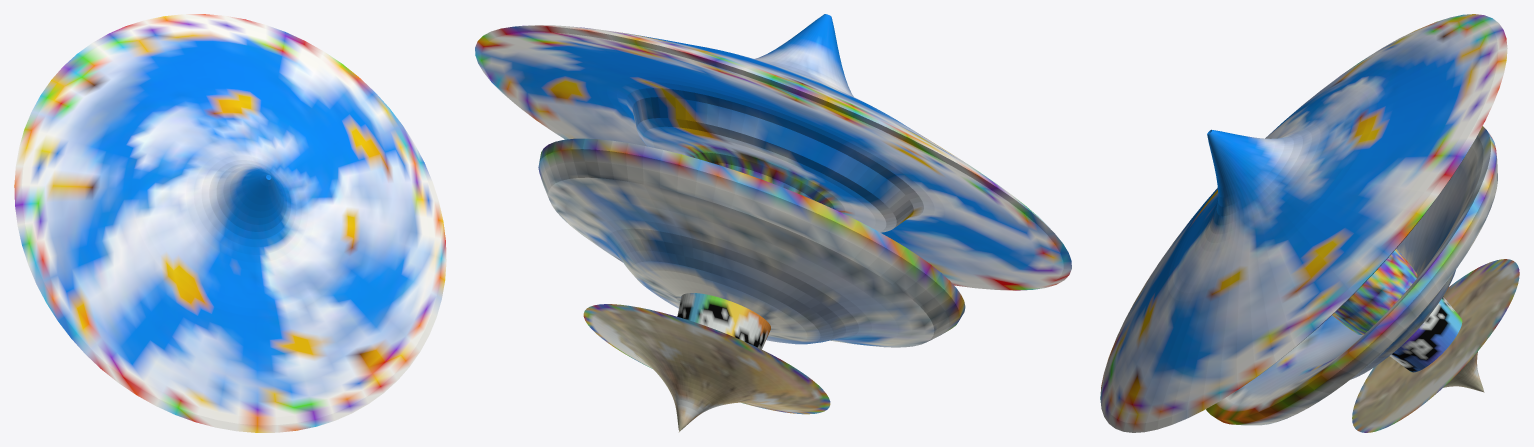
The model's file is april28outdoorpagoda5.glb.
3 renders of one model, left to right at view 1: azimuth 30°, elevation 25°; view 2: azimuth 150°, elevation 25°; view 3: azimuth 270°, elevation 25°, orthographic. The views are drawn at different scales.
Parts seen in each view (by area): view 1: Lathe 4; view 2: Lathe 4, Lathe 3, Lathe, Lathe.001; view 3: Lathe 4, Lathe 3, Lathe, Lathe.001.
Boxes of the visible parts, left/top/right/bottom form: Lathe 4: left=14, top=14, right=446, bottom=432; Lathe 4: left=475, top=14, right=1071, bottom=290; Lathe 3: left=538, top=138, right=965, bottom=347; Lathe: left=583, top=304, right=830, bottom=432; Lathe.001: left=677, top=293, right=770, bottom=349; Lathe 4: left=1100, top=14, right=1507, bottom=432; Lathe 3: left=1206, top=126, right=1497, bottom=425; Lathe: left=1352, top=259, right=1519, bottom=432; Lathe.001: left=1390, top=296, right=1462, bottom=372.
Size of the model in its own units: 3.74 by 2.75 by 2.81.
